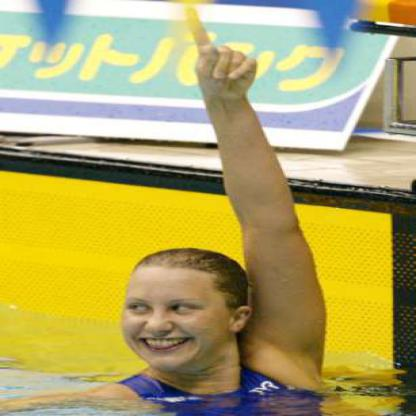face: (119, 253, 235, 374)
